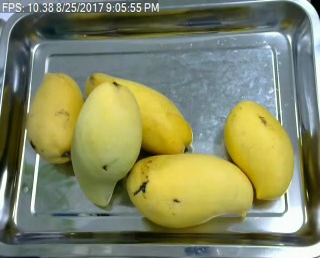Mango: (124, 152, 250, 228), (83, 70, 194, 154), (71, 82, 144, 209), (221, 101, 295, 199), (26, 72, 85, 167)
